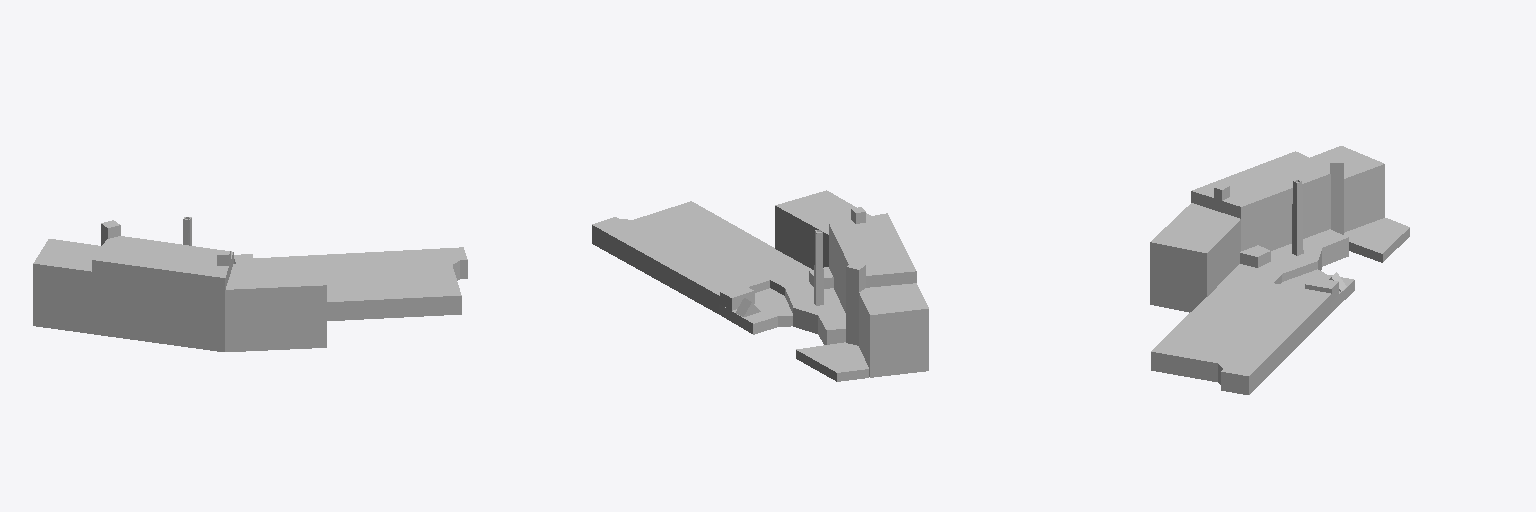
The model's file is office_4.obj.
3 views of the same model, side by side, from view 1: azimuth 30°, elevation 25°; view 2: azimuth 150°, elevation 25°; view 3: azimuth 270°, elevation 25° (orthographic).
Parts seen in each view (by area): view 1: object_1; view 2: object_1; view 3: object_1.
Boxes of the visible parts, box(x1,y1,x2,y2) form: object_1: box(33, 217, 467, 351); object_1: box(592, 190, 928, 381); object_1: box(1150, 146, 1409, 394).
Bounding box in the file's own units: 444 × 101 × 260.